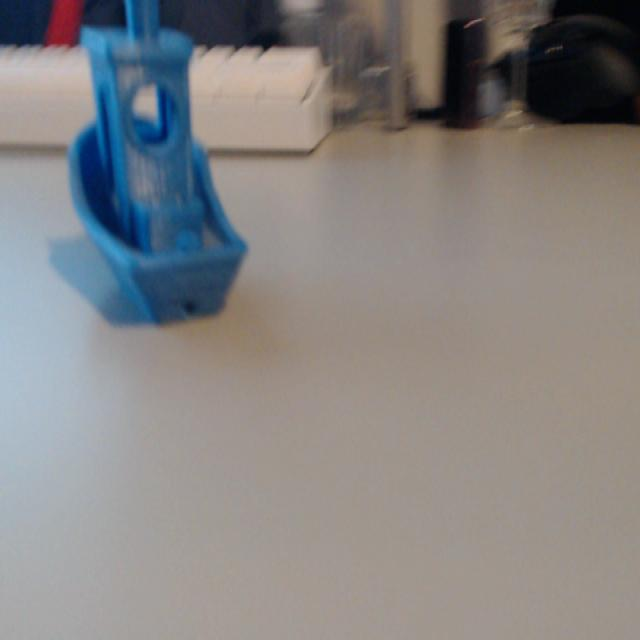benchy: (63, 2, 250, 326)
